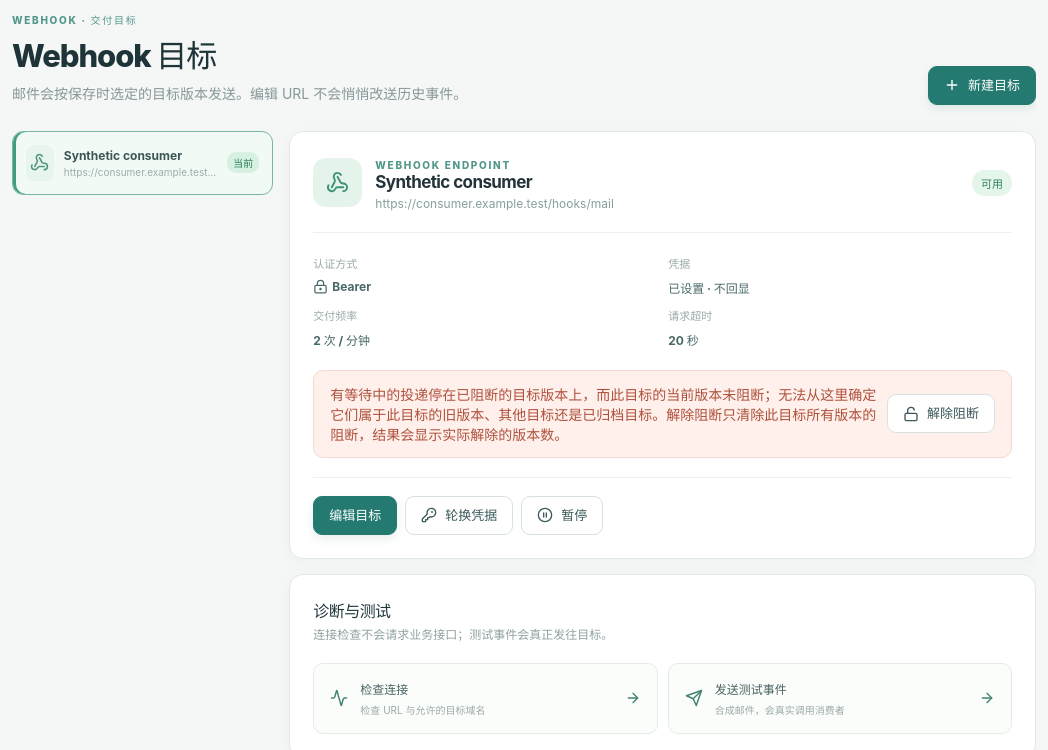
Test: shows the alert-only block again once a check after the unblock still reports it
Check: the text "无法从这里确定" is shown, box [330,386,876,443]
Step 1. Click the button "解除阻断" → point(941, 414), box [887,394,995,434]
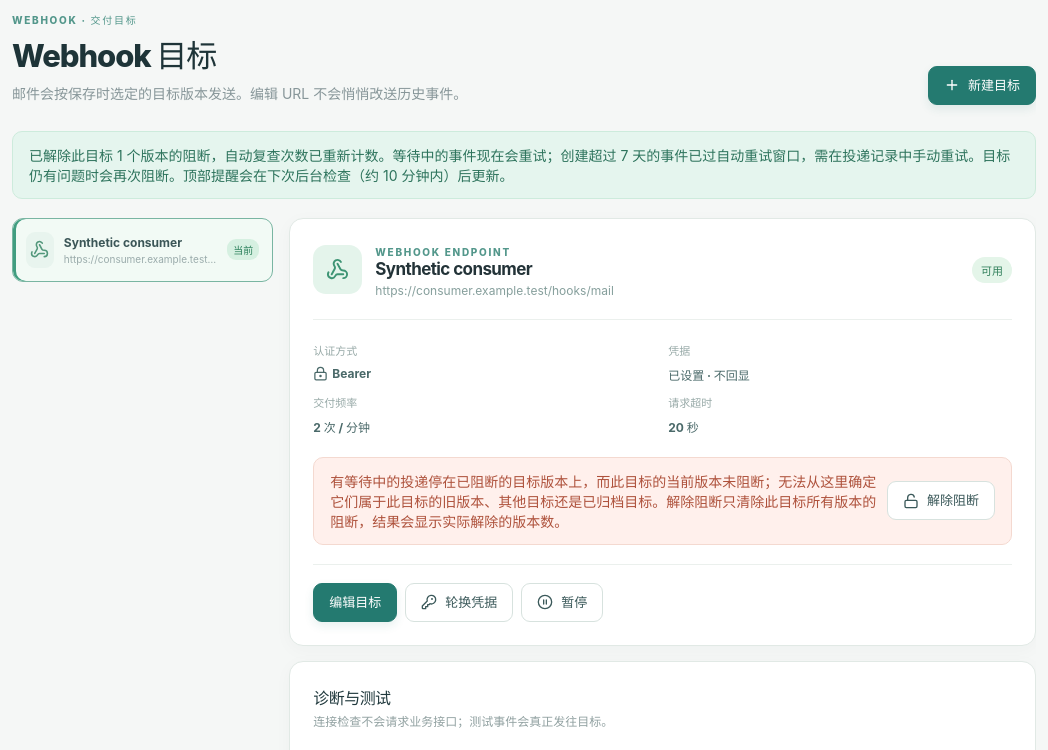
Check: the text "无法从这里确定" is shown, box [330,473,876,530]
Check: the text "已解除此目标 1 个版本的阻断" is shown, box [29,147,1010,184]
